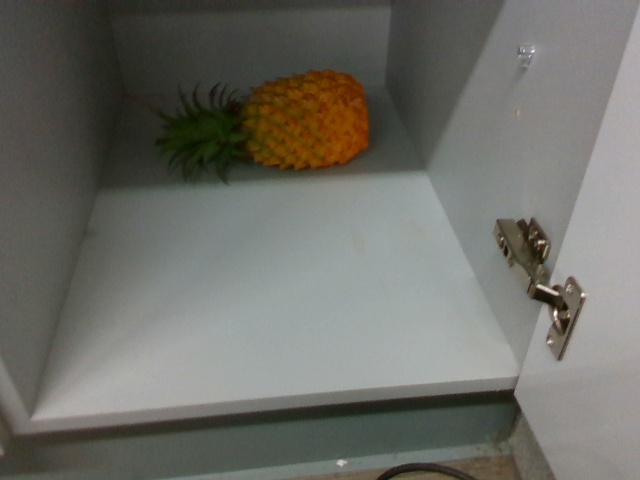pineapple: (158, 64, 367, 184)
